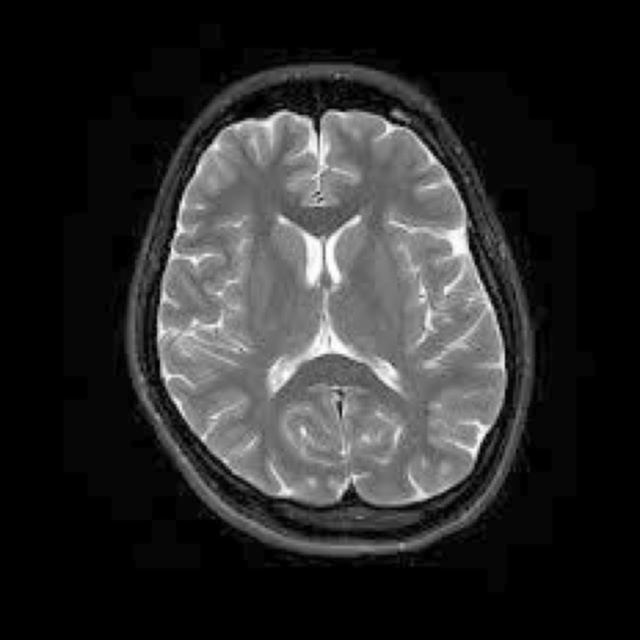glioma tumor: (207, 139, 466, 472)
